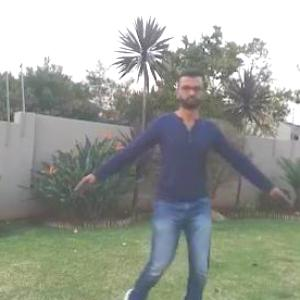land: (103, 94, 245, 268)
